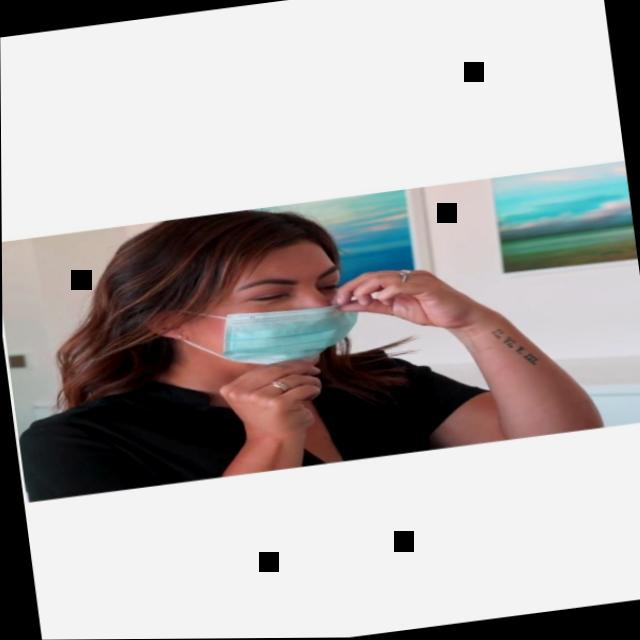Mask: (174, 227, 359, 372)
